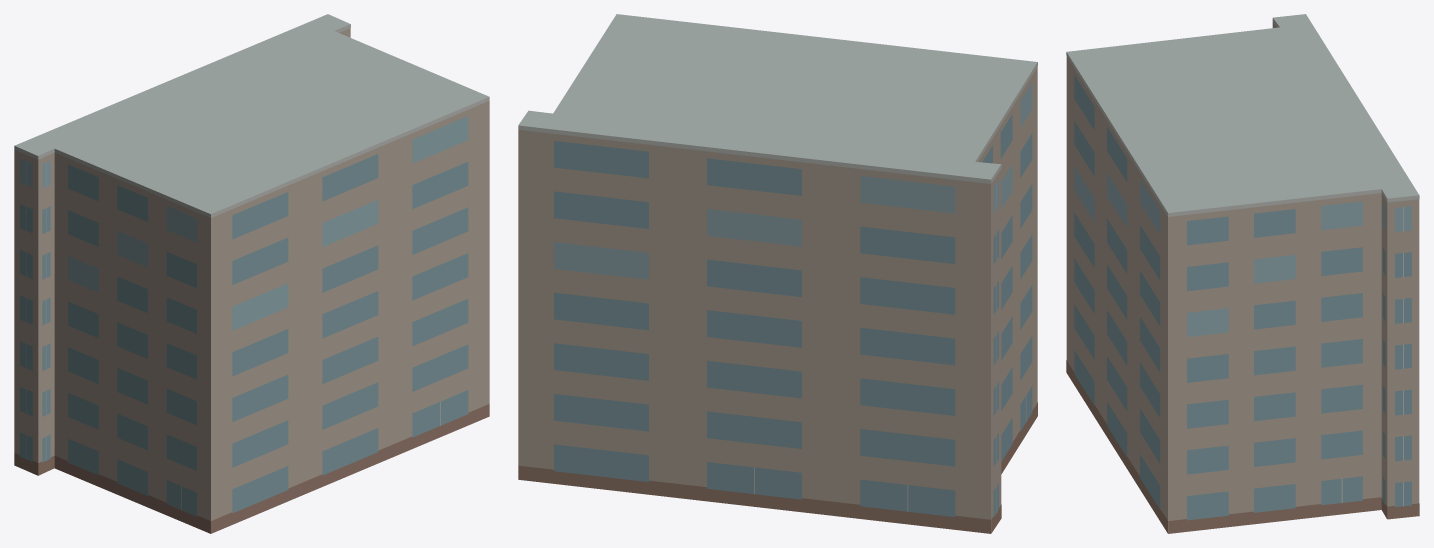
The model's file is survey-upis-32825523.glb.
3 renders of one model, left to right at view 1: azimuth 30°, elevation 25°; view 2: azimuth 150°, elevation 25°; view 3: azimuth 270°, elevation 25°, orthographic. The views are drawn at different scales.
Visible parts, largest first — view 1: survey-upis-32825523.tmp; view 2: survey-upis-32825523.tmp; view 3: survey-upis-32825523.tmp.
Part boxes in pixels (x1,y1,x2,y2): survey-upis-32825523.tmp: (14, 14, 489, 533); survey-upis-32825523.tmp: (518, 14, 1037, 533); survey-upis-32825523.tmp: (1066, 14, 1419, 533).
Bounding box in the file's own units: 26.76 × 20.1 × 20.06.
